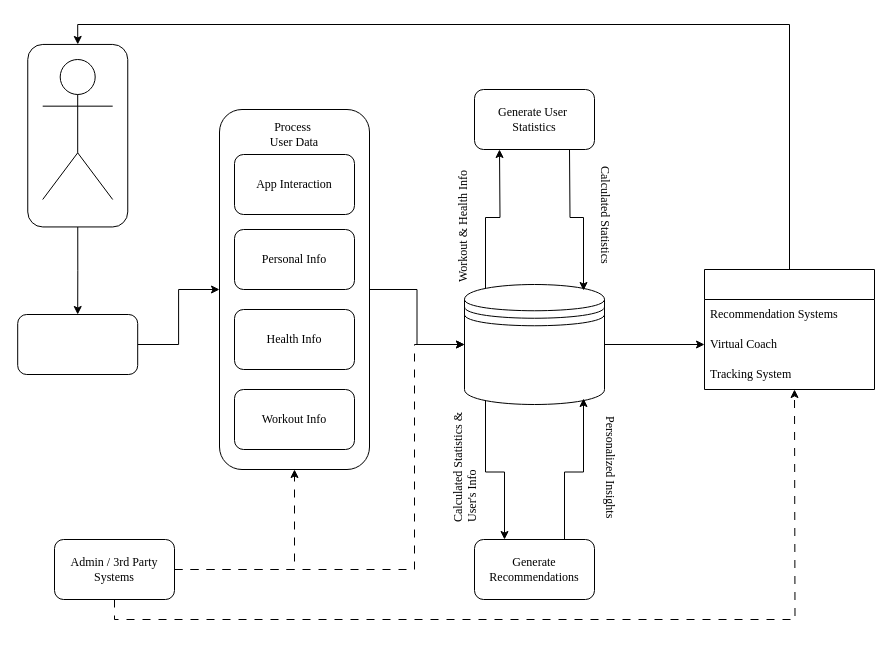
Some shapes in this 892 by 645 pixel diagram are drawn without their labels. The box of each missing label's shape, as (x1, y1, x2, y2) in pixels:
App Database: (464, 284, 604, 404)
App Features: (704, 268, 874, 390)
Data Collection: (17, 314, 138, 374)
User: (42, 58, 113, 200)
